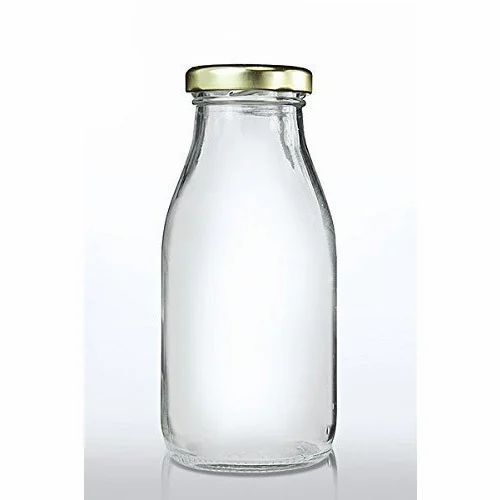milk_bottle: (130, 41, 391, 487)
